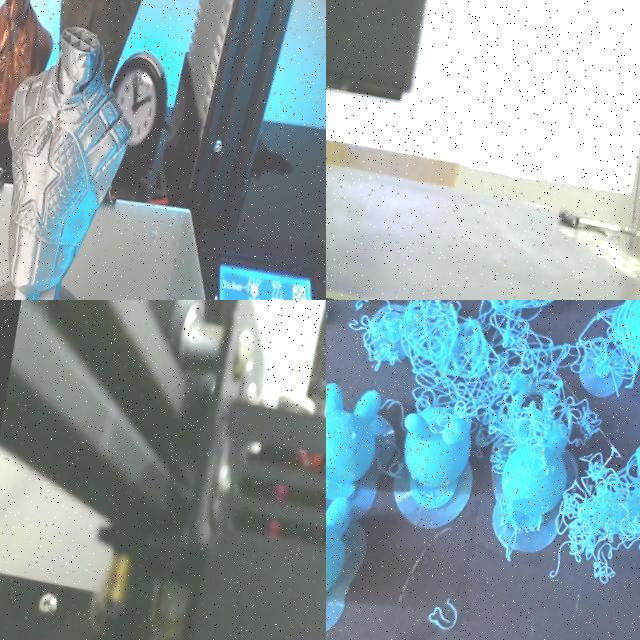spaghetti: (337, 300, 629, 437), (575, 300, 640, 622), (415, 590, 467, 640)
